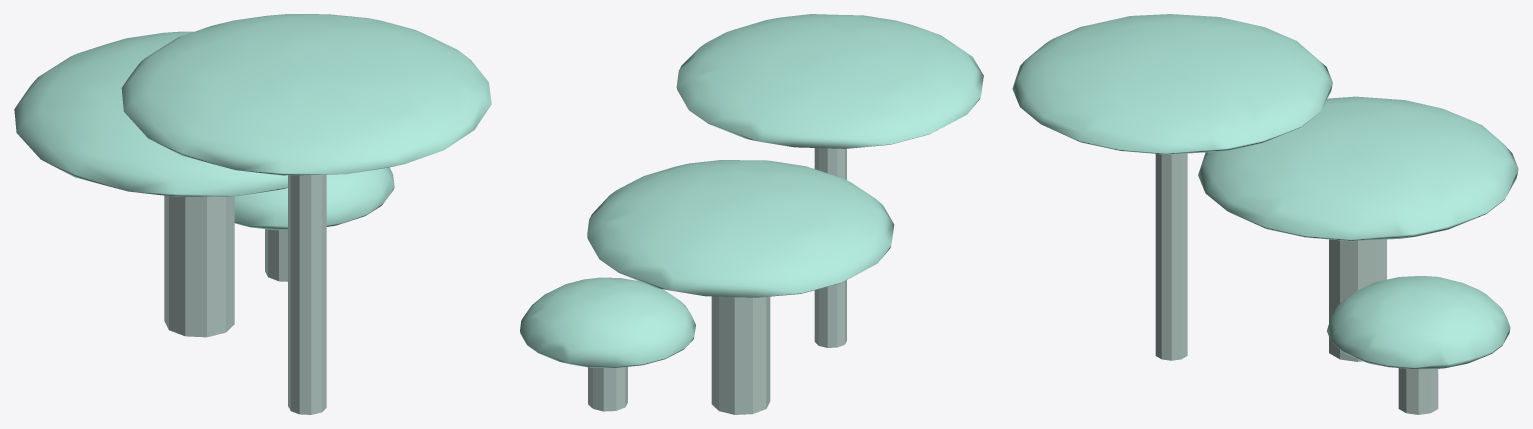
File: Mushrooms_Blue.fbx
3 renders of one model, left to right at view 1: azimuth 30°, elevation 25°; view 2: azimuth 150°, elevation 25°; view 3: azimuth 270°, elevation 25°, orthographic. The views are drawn at different scales.
Parts seen in each view (by area): view 1: pSphere3, pSphere1, pCylinder1, pCylinder3, pSphere2, pCylinder2; view 2: pSphere1, pSphere3, pSphere2, pCylinder1, pCylinder3, pCylinder2; view 3: pSphere3, pSphere1, pSphere2, pCylinder3, pCylinder1, pCylinder2.
Boxes of the visible parts, x1,y1,x2,y2 form: pSphere3: (121, 14, 491, 175); pSphere1: (14, 31, 327, 196); pCylinder1: (164, 195, 234, 337); pCylinder3: (288, 174, 326, 414); pSphere2: (234, 167, 394, 230); pCylinder2: (265, 229, 287, 281); pSphere1: (587, 160, 894, 297); pSphere3: (676, 14, 983, 148); pSphere2: (520, 277, 695, 368); pCylinder1: (711, 296, 770, 414); pCylinder3: (814, 148, 846, 347); pCylinder2: (588, 367, 627, 411); pSphere3: (1012, 14, 1332, 154); pSphere1: (1198, 96, 1518, 241); pSphere2: (1327, 276, 1510, 369); pCylinder3: (1155, 153, 1187, 360); pCylinder1: (1329, 239, 1386, 361); pCylinder2: (1398, 368, 1438, 414).
Size of the model in its own units: 12.51 by 10.9 by 16.8.
